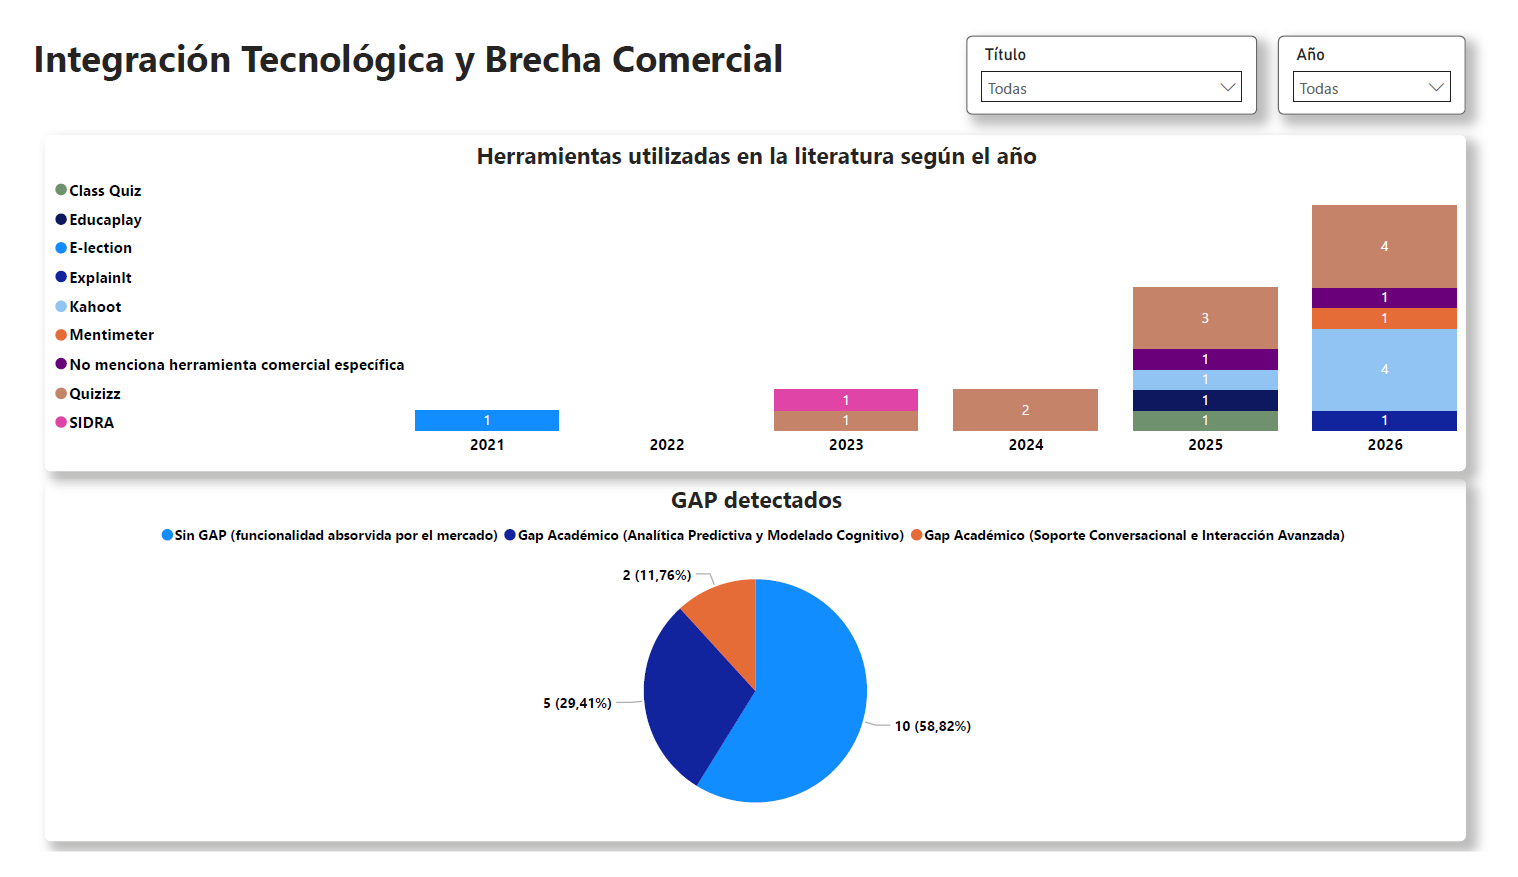

The dashboard page shown, as its layout file describes it:
{"tool":"powerbi","page":{"name":"RQ5","canvas":[1280,720],"ordinal":5},"visuals":[{"type":"textbox","box":[0,0,668.3,67.1],"z":0},{"type":"pieChart","title":"GAP detectados","fields":{"Y":["CountNonNull(Hoja1.Gap)"],"Category":["Hoja1.Gap"]},"box":[17,395,1240,316],"z":1000},{"type":"columnChart","title":"Herramientas utilizadas en la literatura según el año","fields":{"Category":["Hoja1.Año","Herramientas.ARS"],"Y":["Herramientas.Frecuencia_Herramientas"],"Series":["Herramientas.ARS"]},"box":[17,95,1240,293],"z":2000},{"type":"slicer","fields":{"Values":["Hoja1.Título"]},"box":[820.7,8.2,253.9,68.9],"z":3000},{"type":"slicer","fields":{"Values":["Hoja1.Año"]},"box":[1093,8,164,69],"z":4000}]}

Visuals, with their boxes in screenshot pixels (x1, y1, x2, y2), scaled from the page's 1280x720 canvas onto the 1518x877 screenshot:
textbox: region(0, 0, 793, 82)
"GAP detectados" pieChart: region(20, 481, 1491, 866)
"Herramientas utilizadas en la literatura según el año" columnChart: region(20, 116, 1491, 473)
slicer - Hoja1.Título: region(973, 10, 1274, 94)
slicer - Hoja1.Año: region(1296, 10, 1491, 94)
